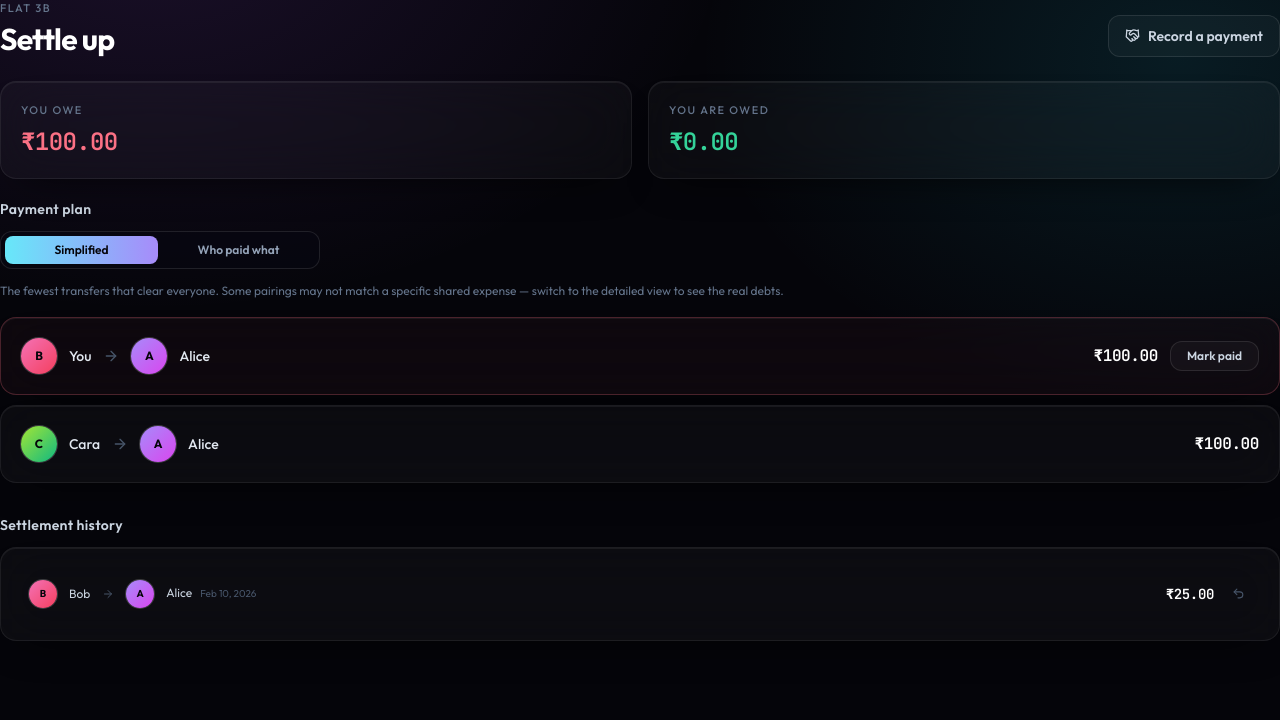
Scenario: SettleUpPage › blocks a settlement between the same person twice
Click the button "Record a payment" at (1194, 36), box [1108,14,1279,56]
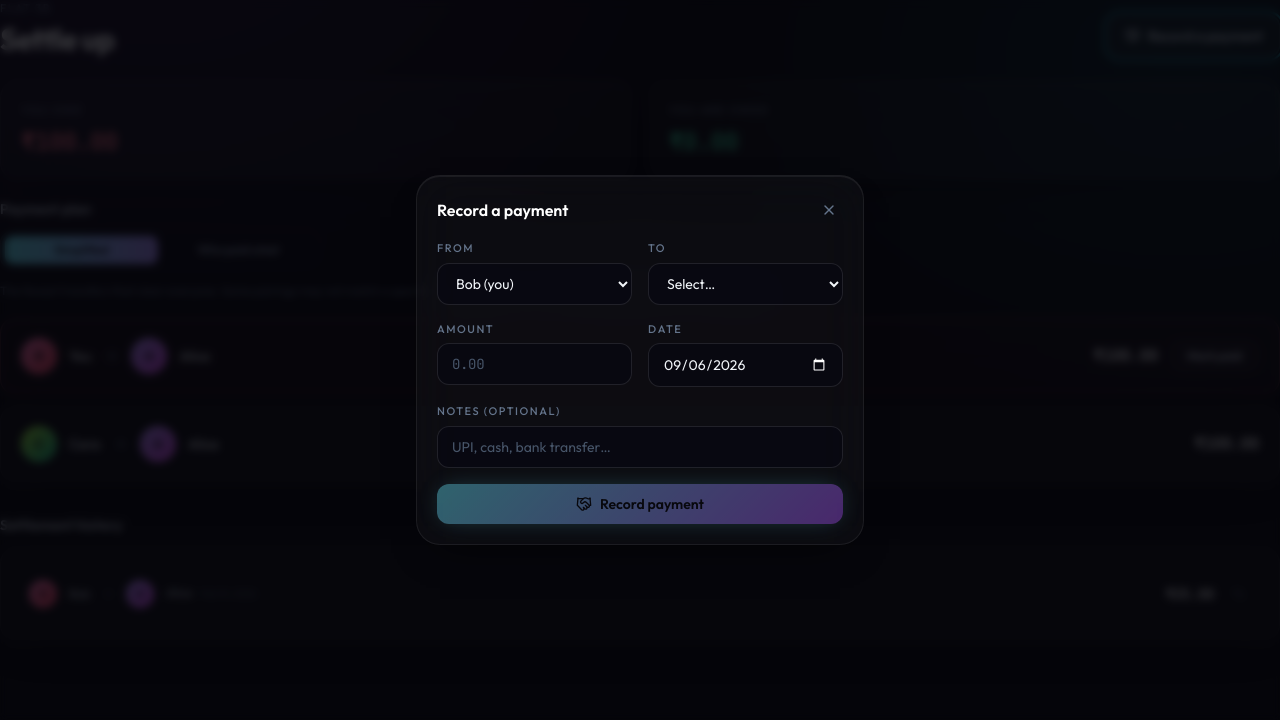
Check: the button "Record payment" is disabled, box [437,484,843,524]
